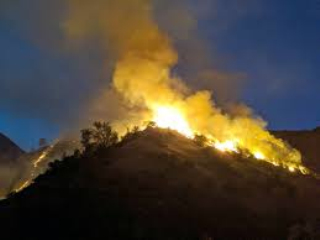fire: (154, 103, 198, 137), (204, 138, 254, 162)
smoke: (117, 48, 300, 154)
